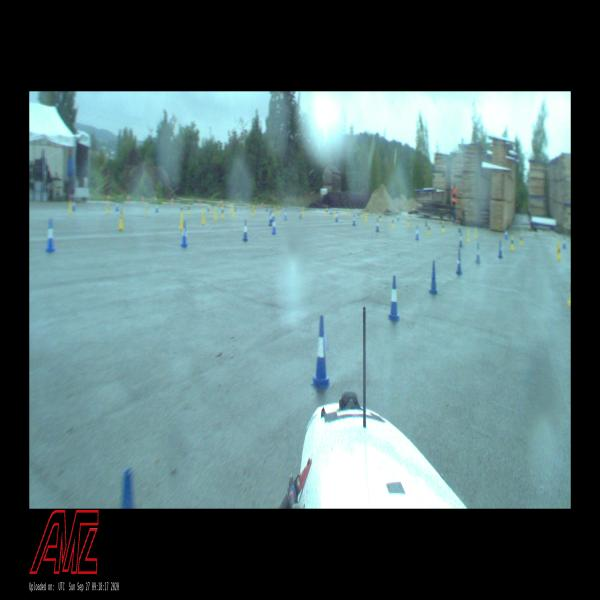blue_cone: (311, 314, 331, 389), (389, 276, 400, 321), (46, 219, 57, 253), (430, 260, 437, 295), (181, 224, 188, 248), (456, 250, 462, 276), (242, 220, 248, 240), (475, 245, 481, 264), (497, 240, 503, 259), (272, 216, 276, 235), (72, 196, 76, 212), (415, 225, 419, 240), (459, 232, 463, 245), (562, 235, 566, 248), (352, 214, 356, 225), (269, 213, 272, 227), (283, 209, 287, 218), (505, 228, 508, 240), (458, 220, 461, 232), (335, 211, 338, 222), (377, 221, 379, 232)
yellow_cone: (567, 279, 571, 306), (119, 211, 124, 231), (510, 234, 515, 252), (556, 241, 560, 260), (519, 233, 523, 246), (69, 198, 72, 214), (202, 211, 205, 225), (180, 213, 183, 227), (214, 207, 217, 220), (391, 215, 394, 228), (474, 226, 477, 239), (467, 230, 470, 241), (301, 206, 305, 214), (220, 207, 223, 217), (231, 207, 234, 216), (145, 205, 148, 214), (442, 220, 444, 233), (428, 222, 430, 235), (188, 204, 190, 215), (407, 216, 409, 227), (360, 208, 362, 219), (379, 212, 381, 222), (365, 214, 367, 222), (326, 208, 328, 216), (209, 206, 211, 213), (252, 207, 253, 216)
